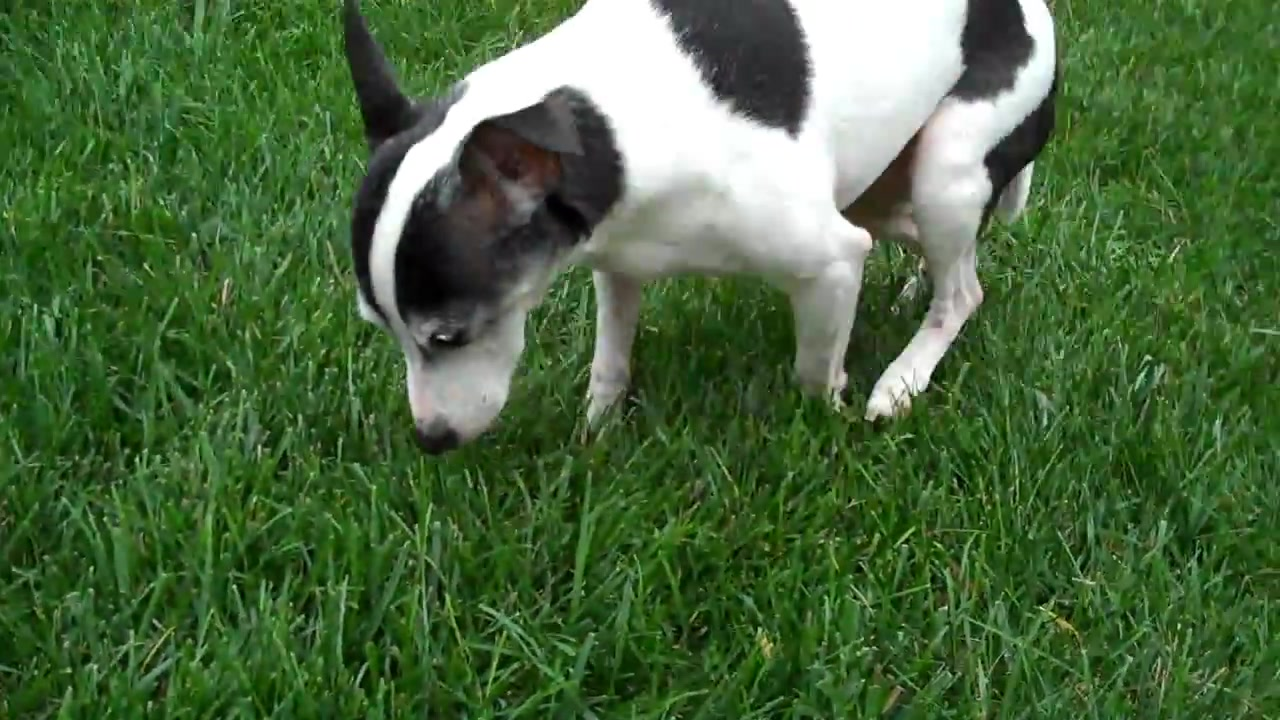dog: (337, 3, 1060, 448)
